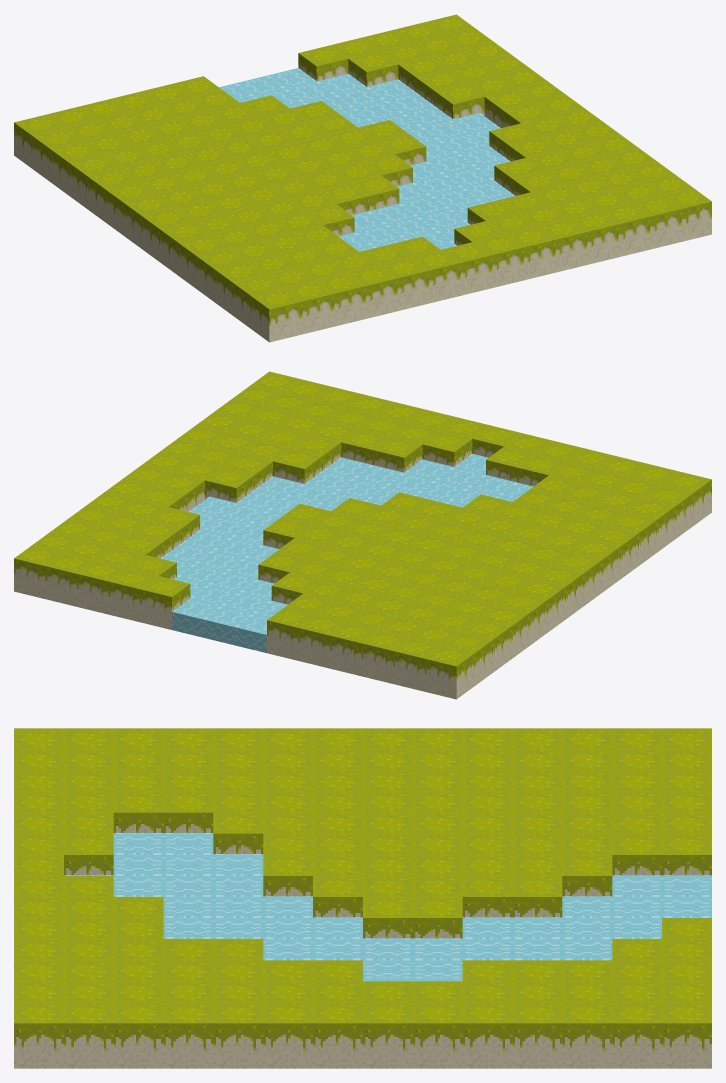
The picture shows the model from 3 angles, top to bottom: view 1: azimuth 30°, elevation 25°; view 2: azimuth 150°, elevation 25°; view 3: azimuth 270°, elevation 25°; orthographic projection. The views are drawn at different scales.
Visible parts, largest first — view 1: Ground_Grass_D__2__1__42__1; view 2: Ground_Grass_D__2__1__42__1; view 3: Ground_Grass_D__2__1__42__1.
Part boxes in pixels (x1,y1,x2,y2): Ground_Grass_D__2__1__42__1: (14, 14, 711, 342); Ground_Grass_D__2__1__42__1: (14, 371, 711, 699); Ground_Grass_D__2__1__42__1: (14, 728, 711, 1068).
Size of the model in its own units: 8400 by 600 by 8400.
2 materials, 2 textured.
